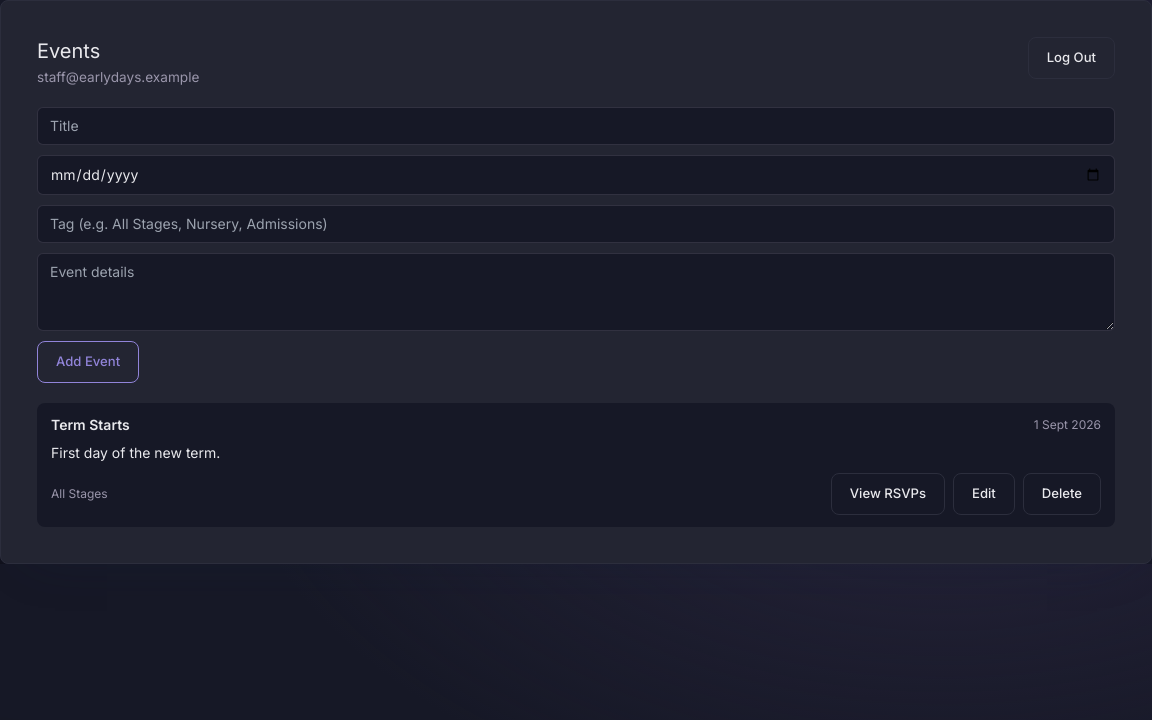
Test: AdminEventsPanel › deletes an event
Expected: the text "Term Starts" is shown, x1=51 y1=415 x2=130 y2=435
What coordinates should you click on to do the following:
click the button "Delete"
I would click on:
 (1062, 494)
Its box is x1=1023 y1=473 x2=1101 y2=515.
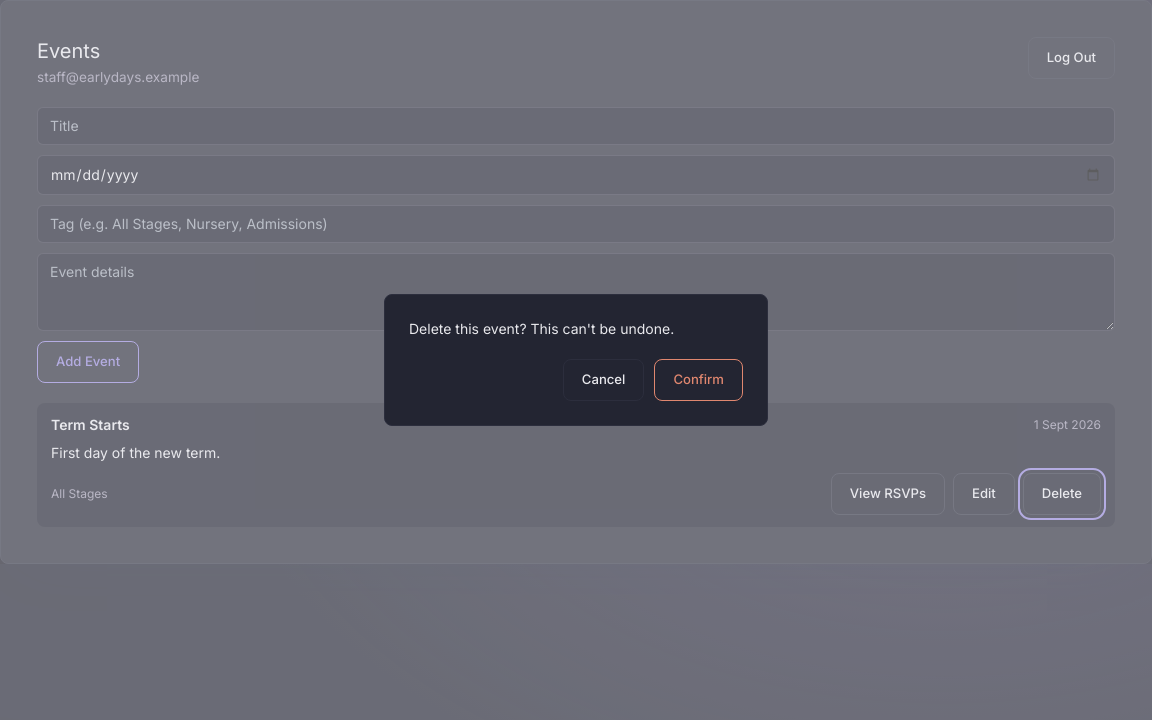
What coordinates should you click on to do the following:
click the button "Confirm"
I would click on:
 (699, 380)
Its box is x1=654 y1=359 x2=743 y2=401.
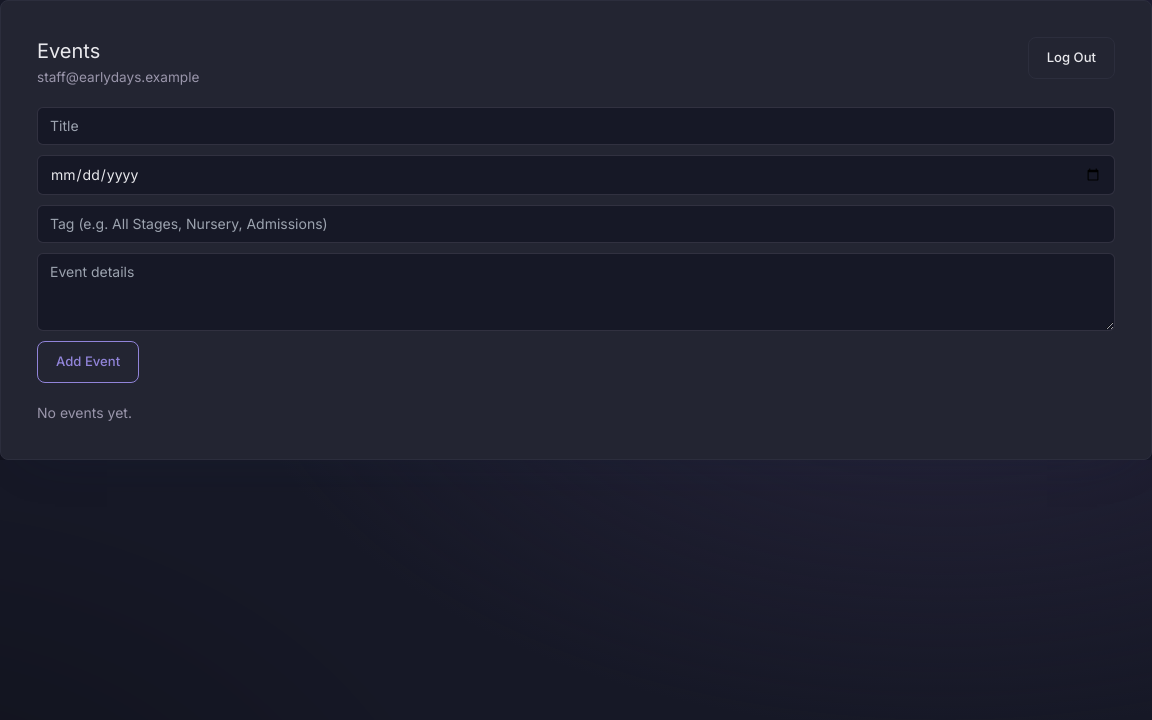
Expected: the text "Term Starts" is gone
